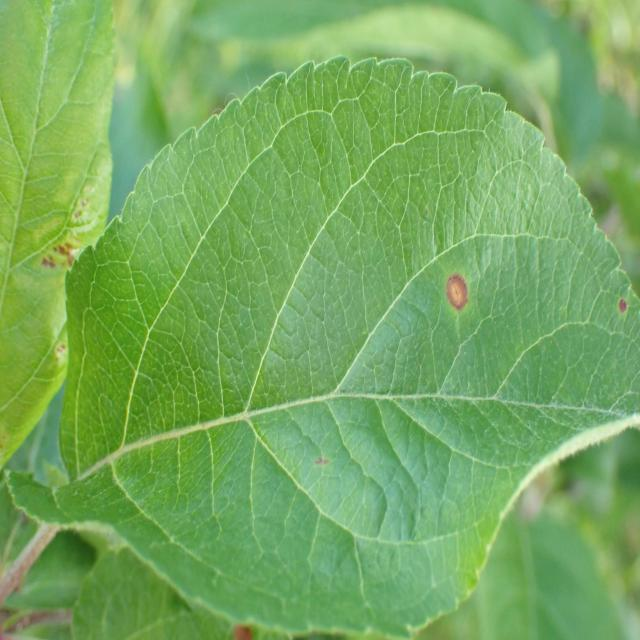Black Rot: (431, 266, 483, 325), (611, 298, 638, 320)
